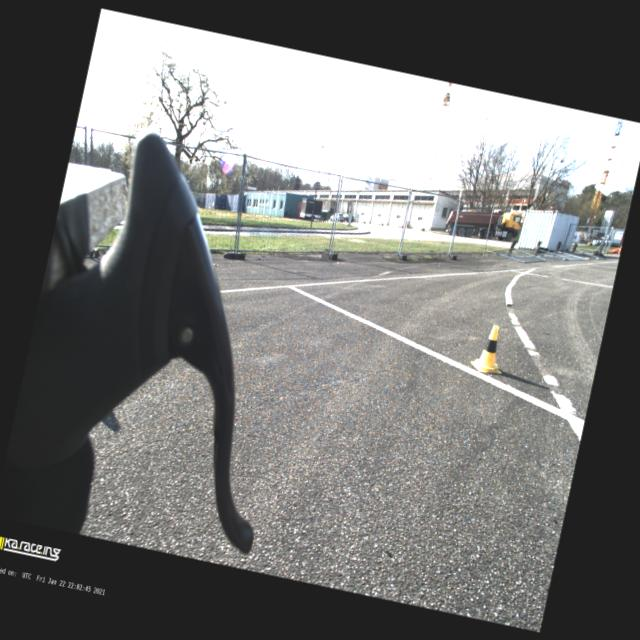yellow_cone: (468, 322, 511, 376)
